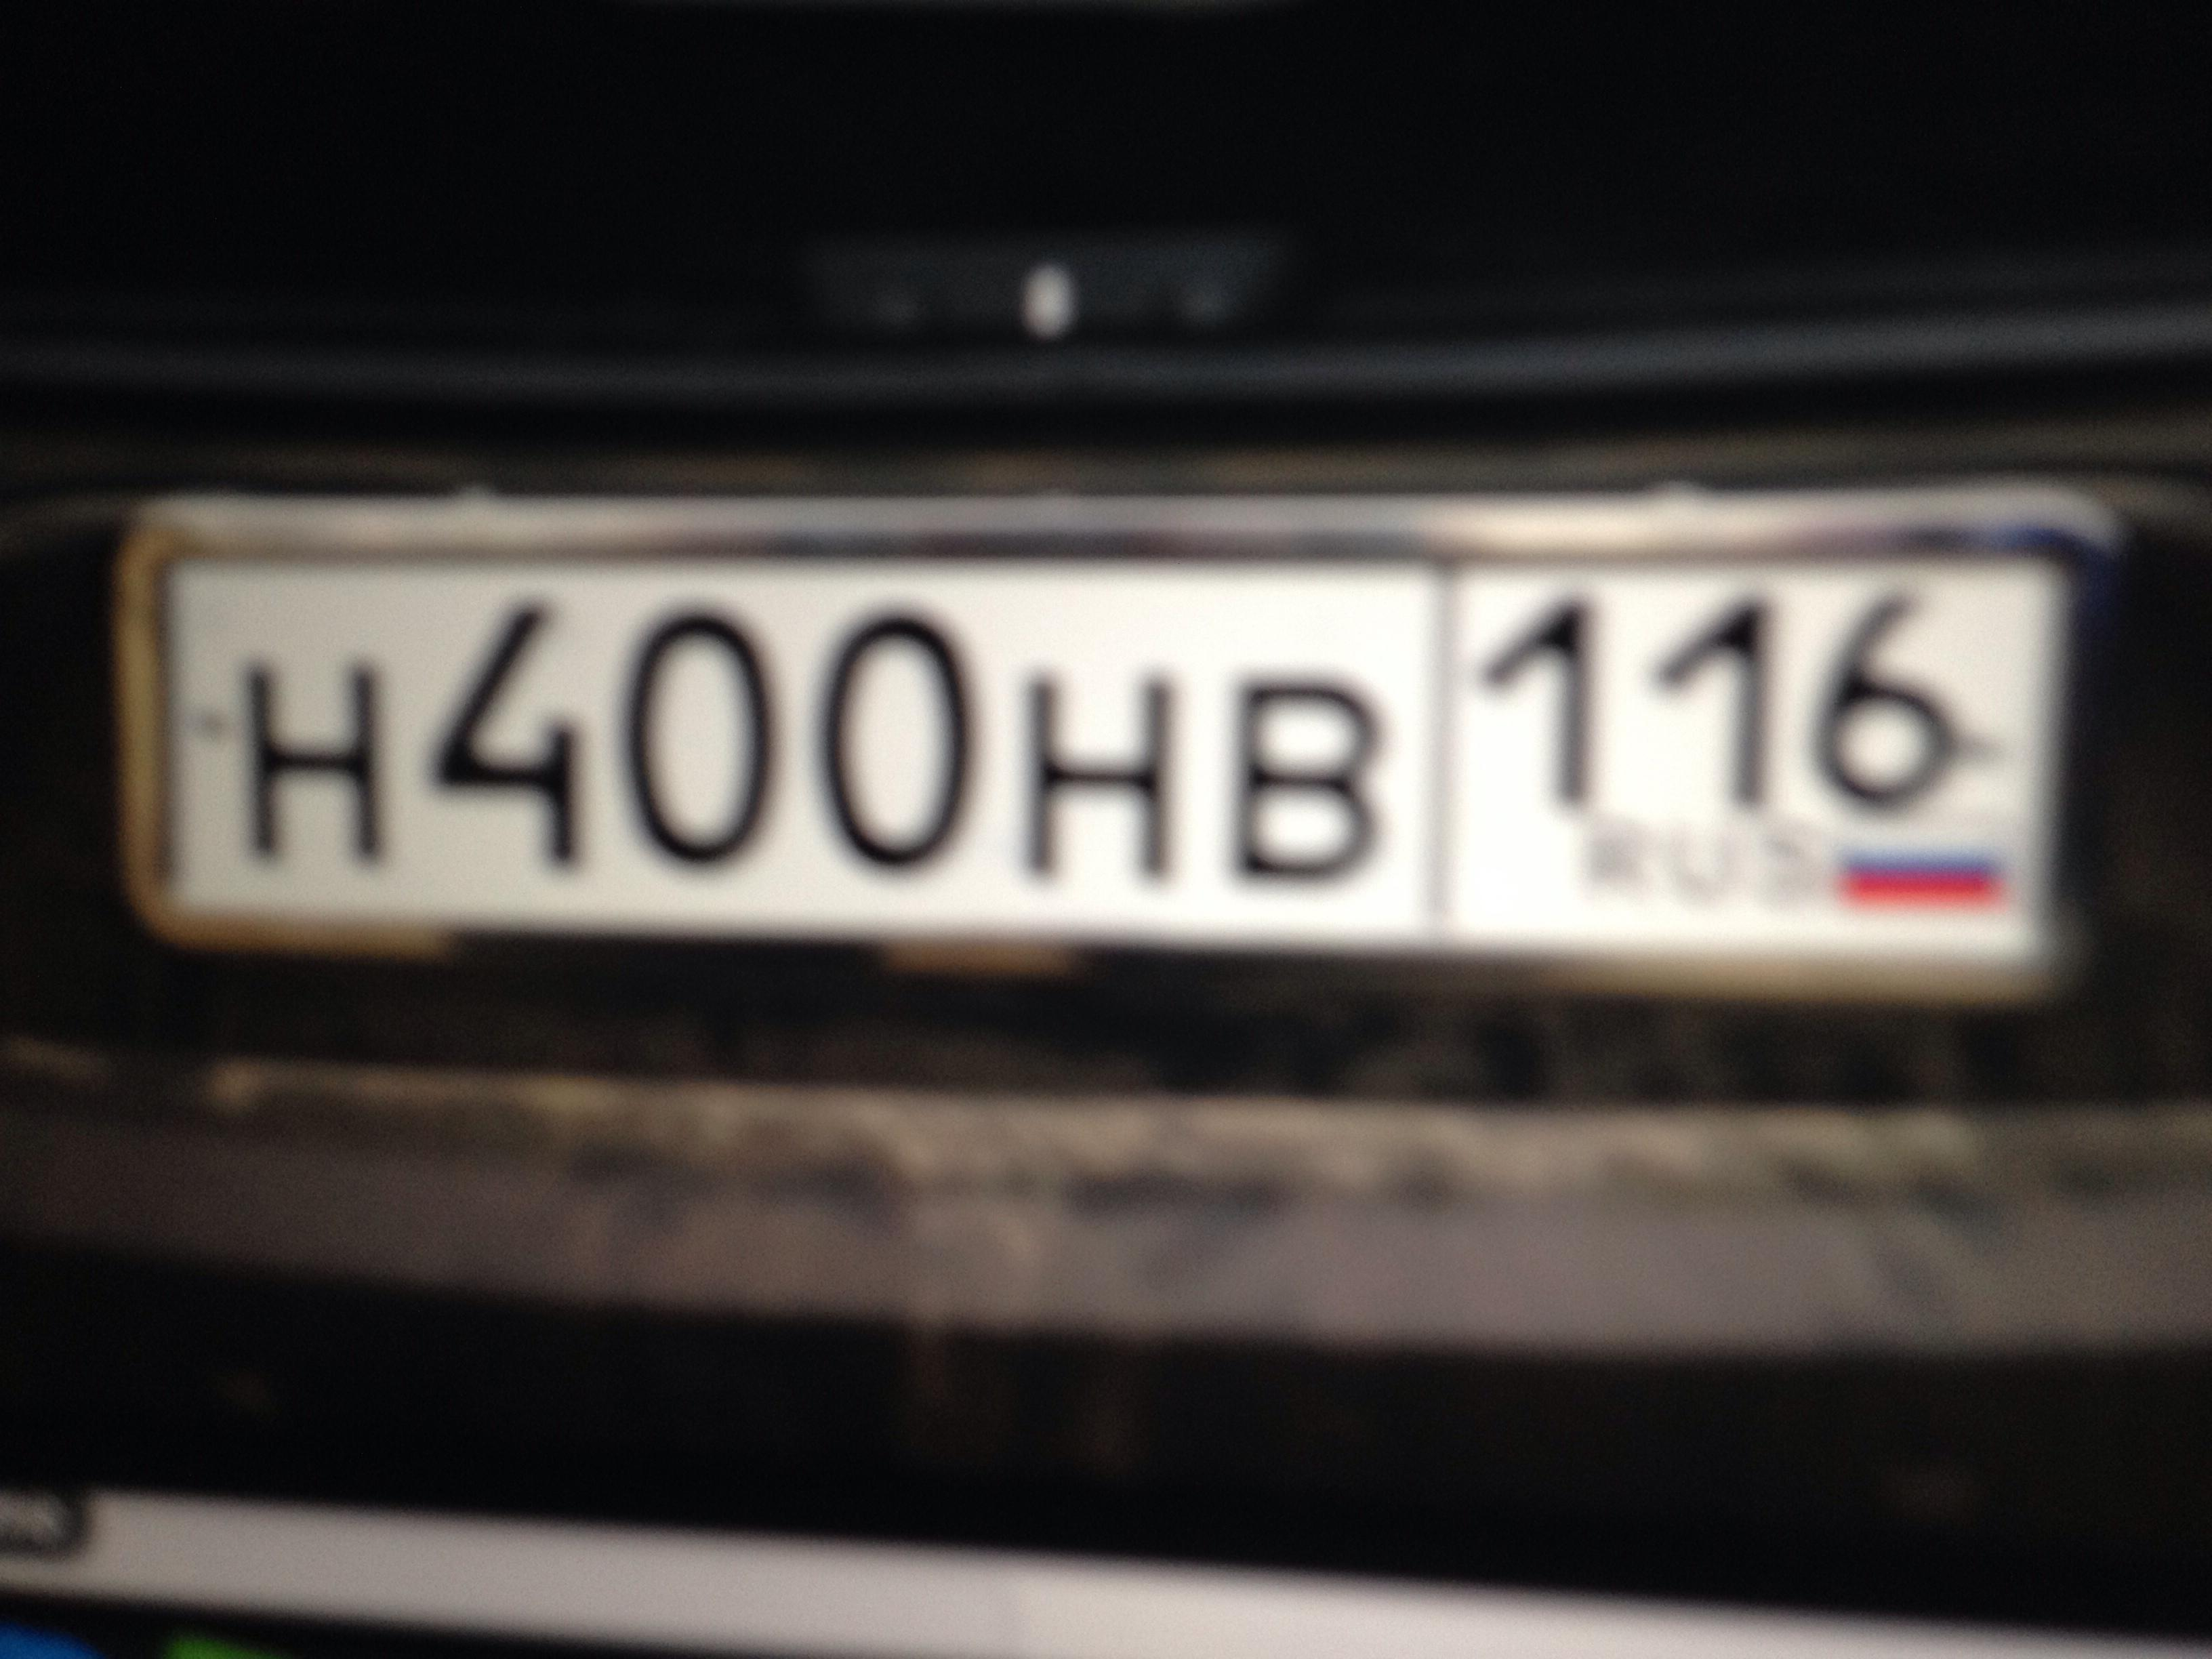license-plateSW: (146, 548, 2085, 960)
